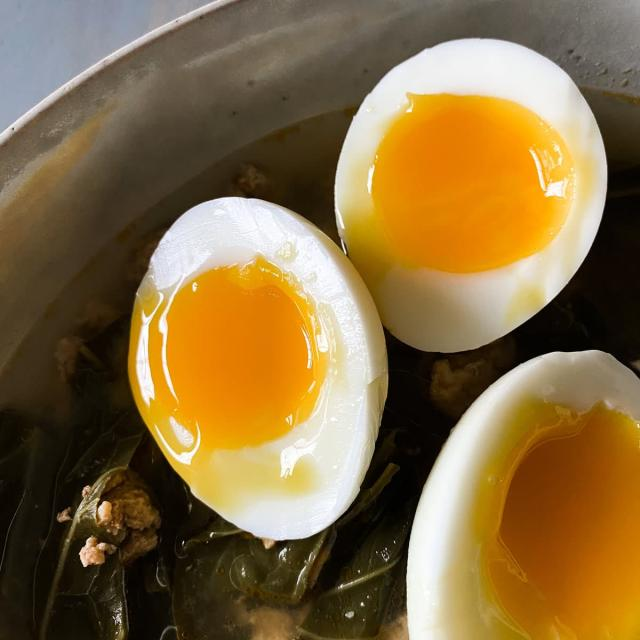eggs: (96, 45, 640, 640)
